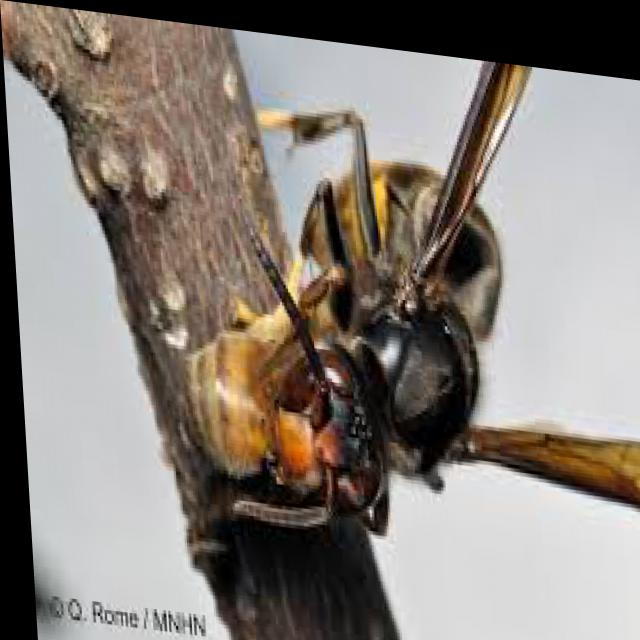Vespa Velutina: (197, 19, 639, 573)
